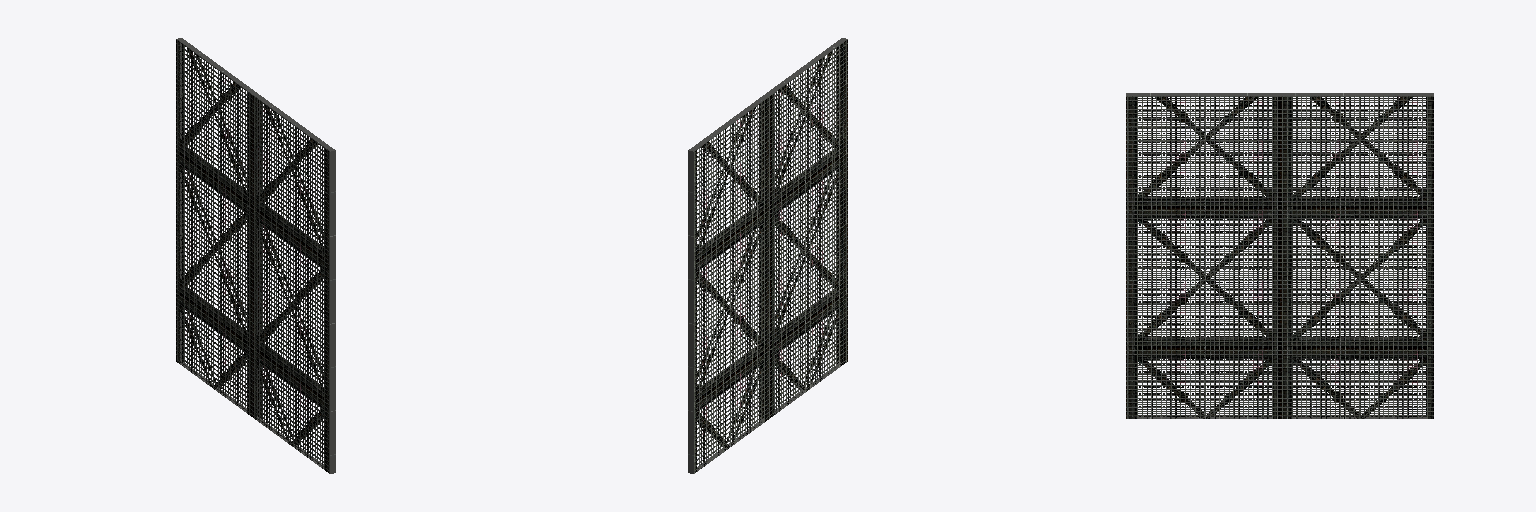
The picture shows the model from 3 angles: view 1: azimuth 30°, elevation 25°; view 2: azimuth 150°, elevation 25°; view 3: azimuth 270°, elevation 25°; orthographic projection.
Visible parts, largest first — view 1: 2; view 2: 2; view 3: 2.
Boxes of the visible parts, x1=… form: 2: x1=176, y1=38, x2=335, y2=473; 2: x1=688, y1=38, x2=847, y2=473; 2: x1=1126, y1=93, x2=1433, y2=418.
Bounding box in the file's own units: 2 × 118 × 102.
2 materials, 2 textured.